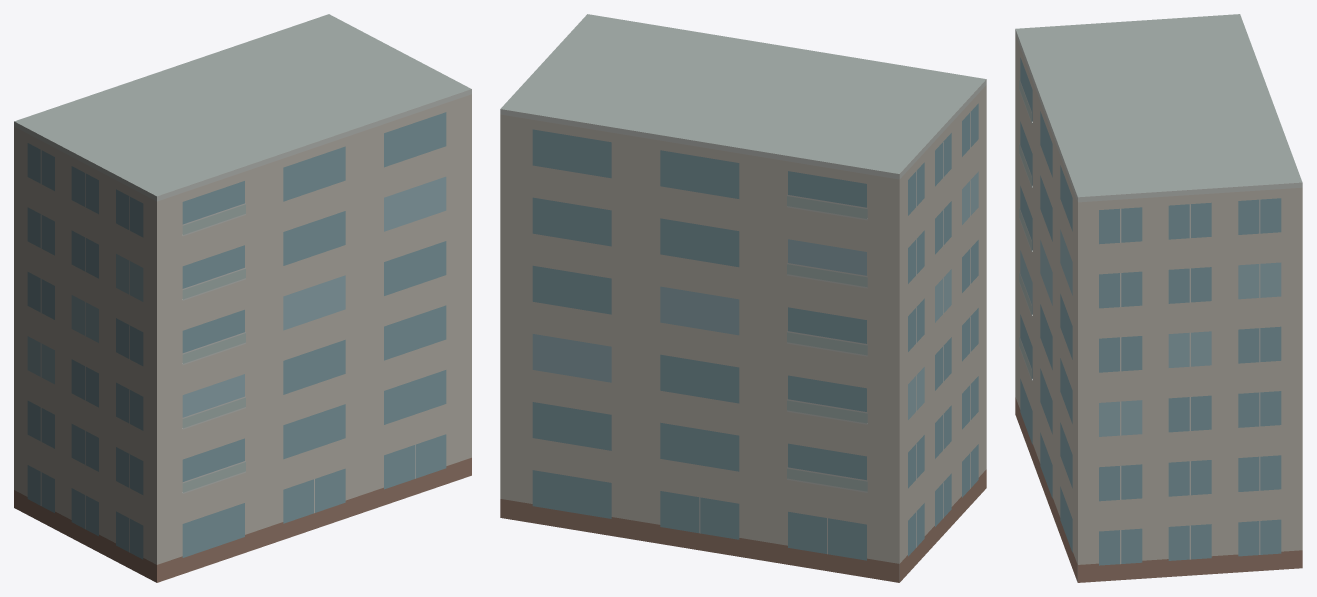
The model's file is survey-upis-32715433.glb.
3 views of the same model, side by side, from view 1: azimuth 30°, elevation 25°; view 2: azimuth 150°, elevation 25°; view 3: azimuth 270°, elevation 25° (orthographic). The views are drawn at different scales.
Visible parts, largest first — view 1: survey-upis-32715433.tmp; view 2: survey-upis-32715433.tmp; view 3: survey-upis-32715433.tmp.
Boxes of the visible parts, x1,y1,x2,y2 form: survey-upis-32715433.tmp: (14,14,471,582); survey-upis-32715433.tmp: (500,14,986,582); survey-upis-32715433.tmp: (1015,14,1302,582).
Bounding box in the file's own units: 18.66 × 18.3 × 12.36.
